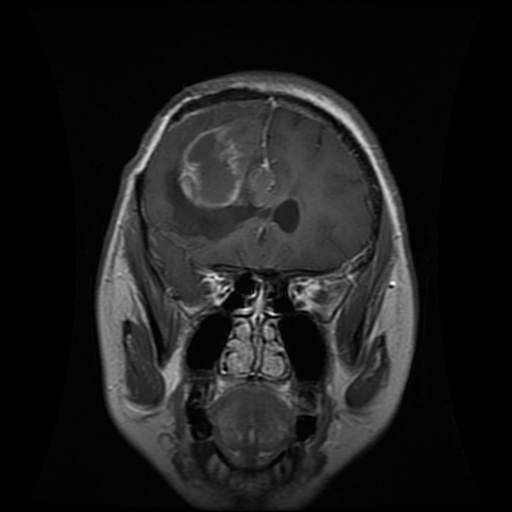glioma: (165, 122, 265, 238)
